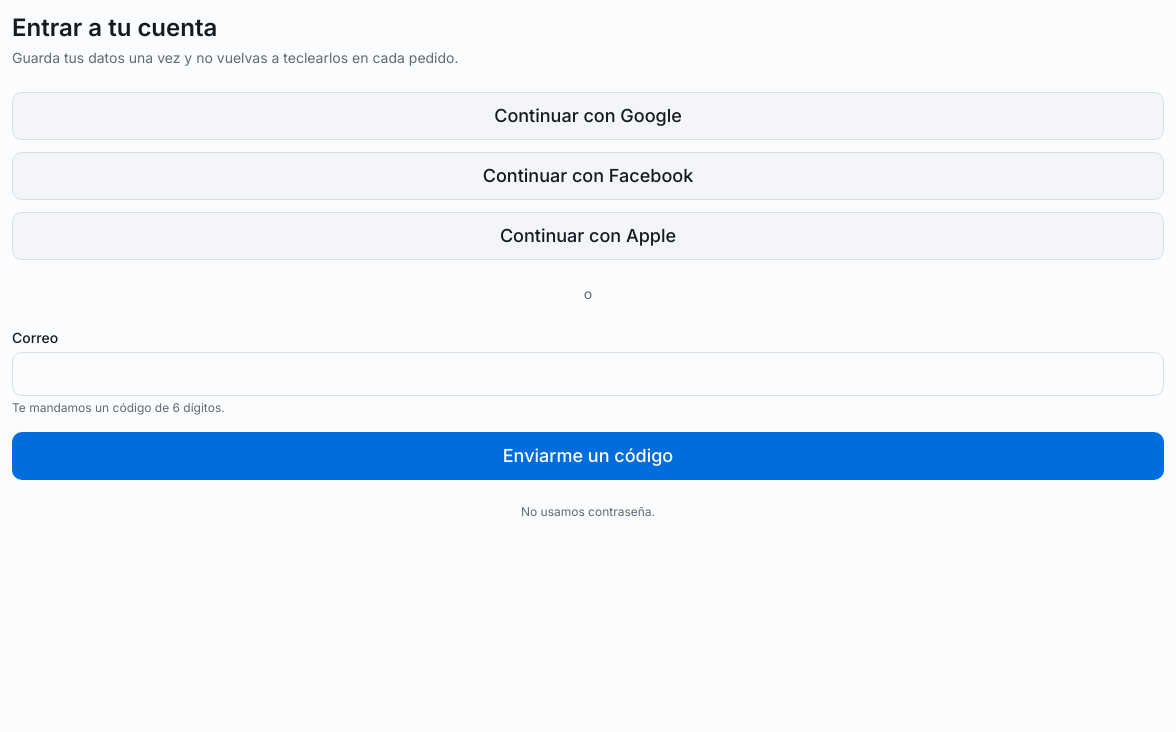
Test case: SignInCard — paso código (design.md § 2) › teclear uno a uno NO comprueba solo: solo habilita Entrar
Type "ana@x.cu" into the field labelled "Correo". click: (588, 374)
box: 12,352 -> 1164,396
Click the button "Enviarme un código". click: (588, 456)
box: 12,432 -> 1164,480
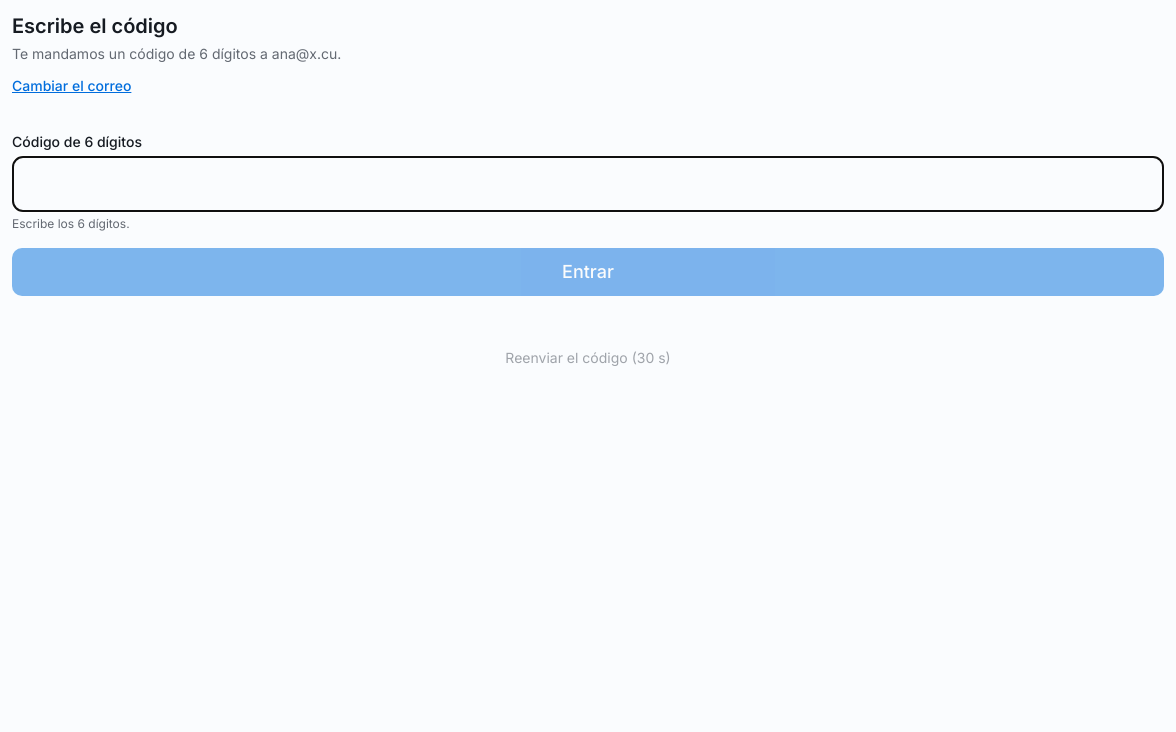
Expected: the heading "Escribe el código" is shown, 12,14 -> 178,38
Type "1" into the field labelled "Código de 6 dígitos". click: (588, 184)
box: 12,156 -> 1164,212
Replace the text in the field labelled "Código de 6 dígitos" with "12". click: (588, 184)
box: 12,156 -> 1164,212
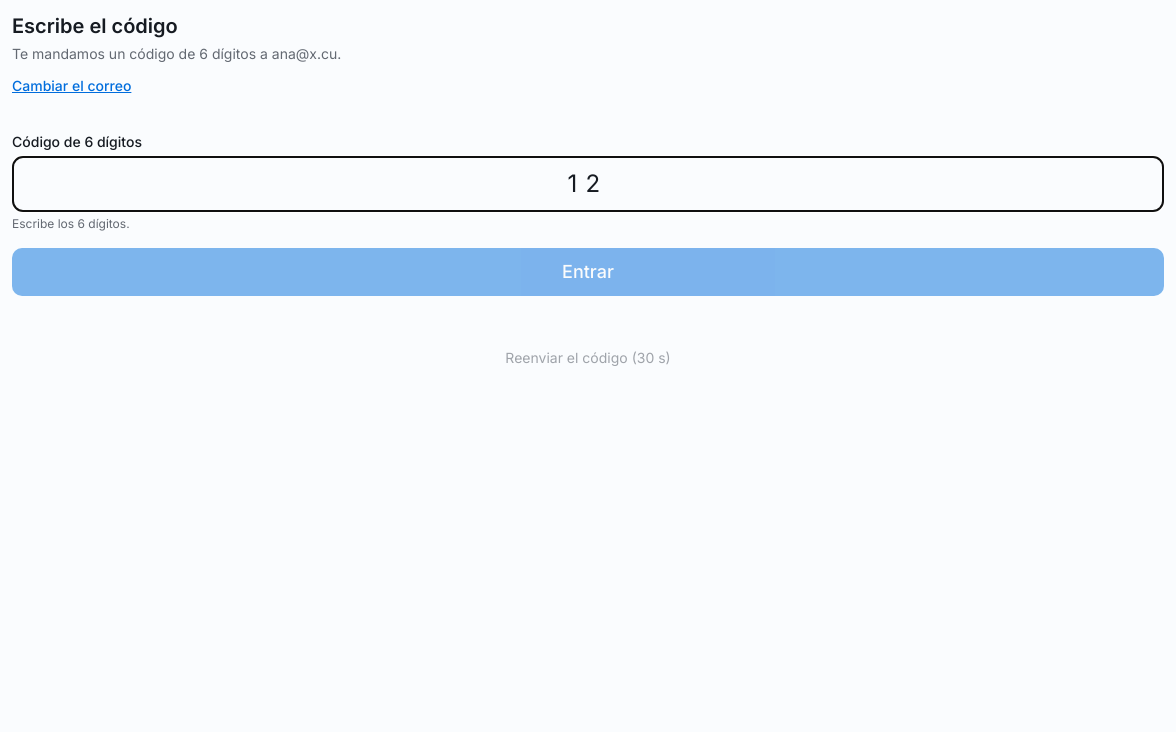
Replace the text in the field labelled "Código de 6 dígitos" with "123". click: (588, 184)
box: 12,156 -> 1164,212
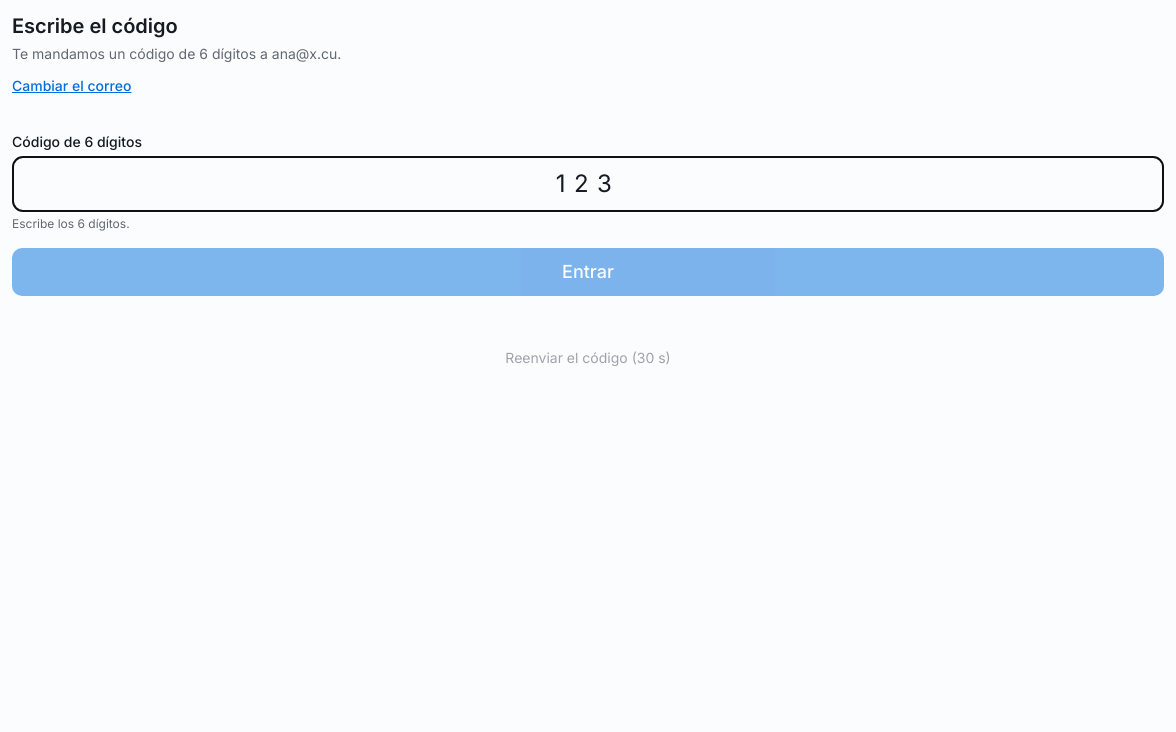
Replace the text in the field labelled "Código de 6 dígitos" with "1234". click: (588, 184)
box: 12,156 -> 1164,212
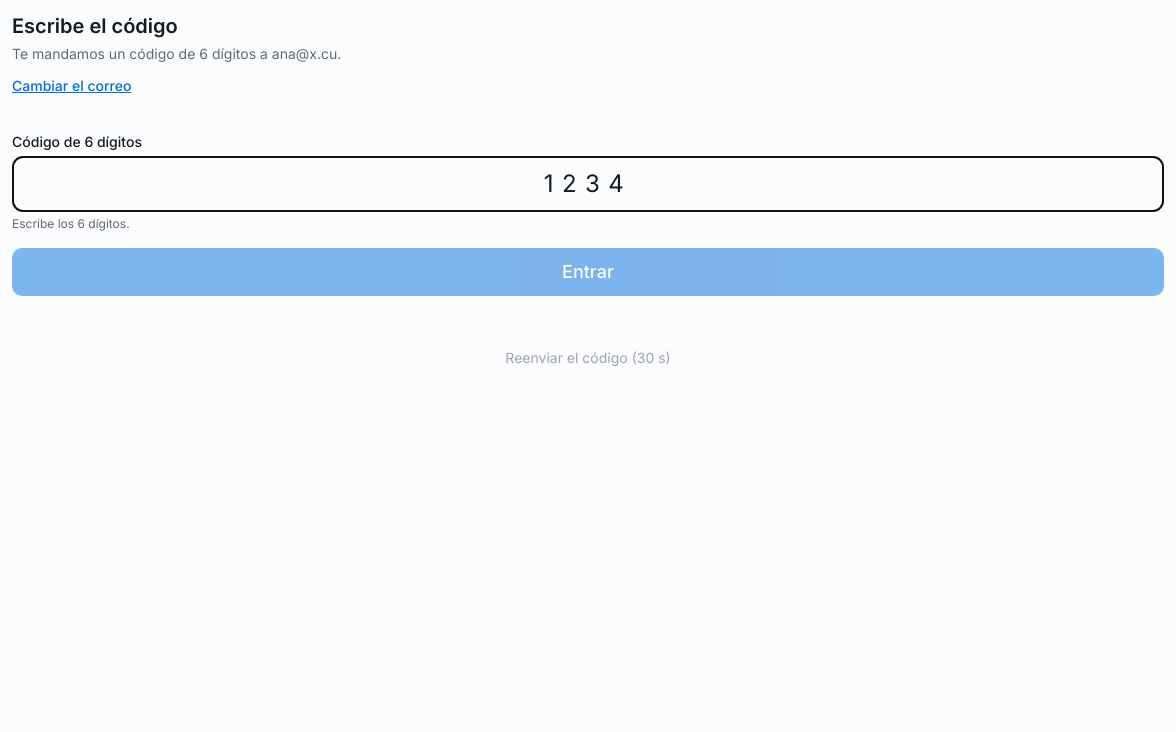
Replace the text in the field labelled "Código de 6 dígitos" with "12345". click: (588, 184)
box: 12,156 -> 1164,212
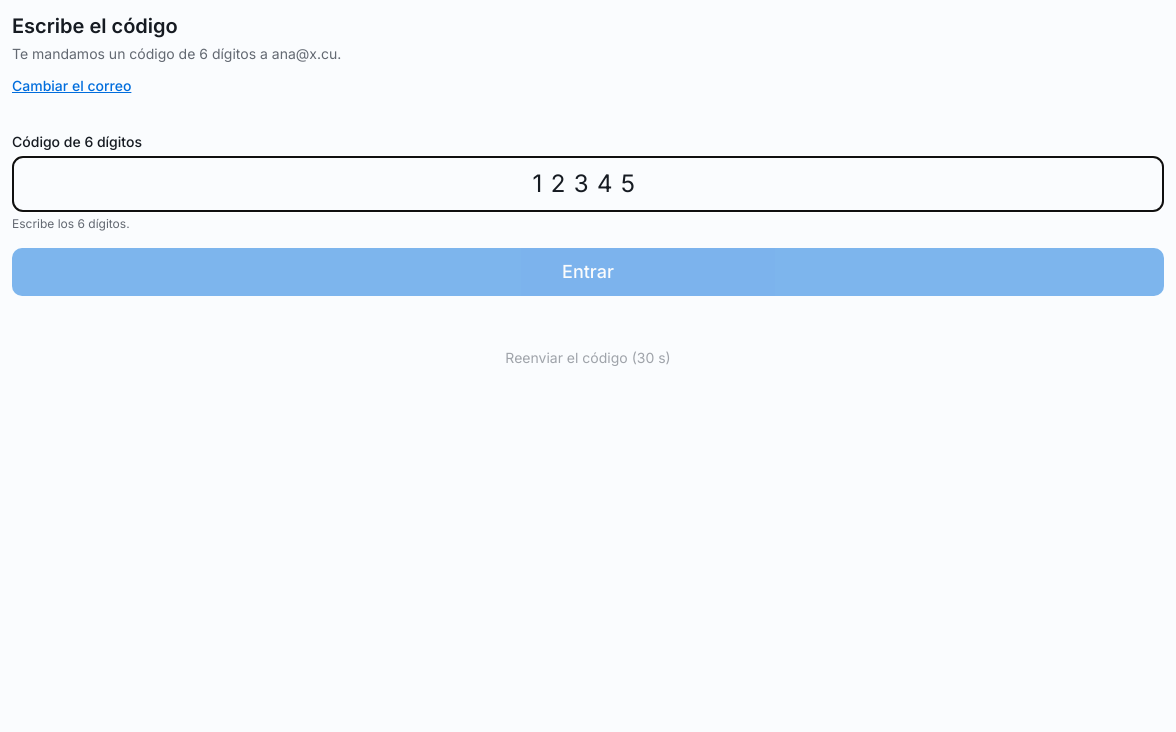
Replace the text in the field labelled "Código de 6 dígitos" with "123456". click: (588, 184)
box: 12,156 -> 1164,212
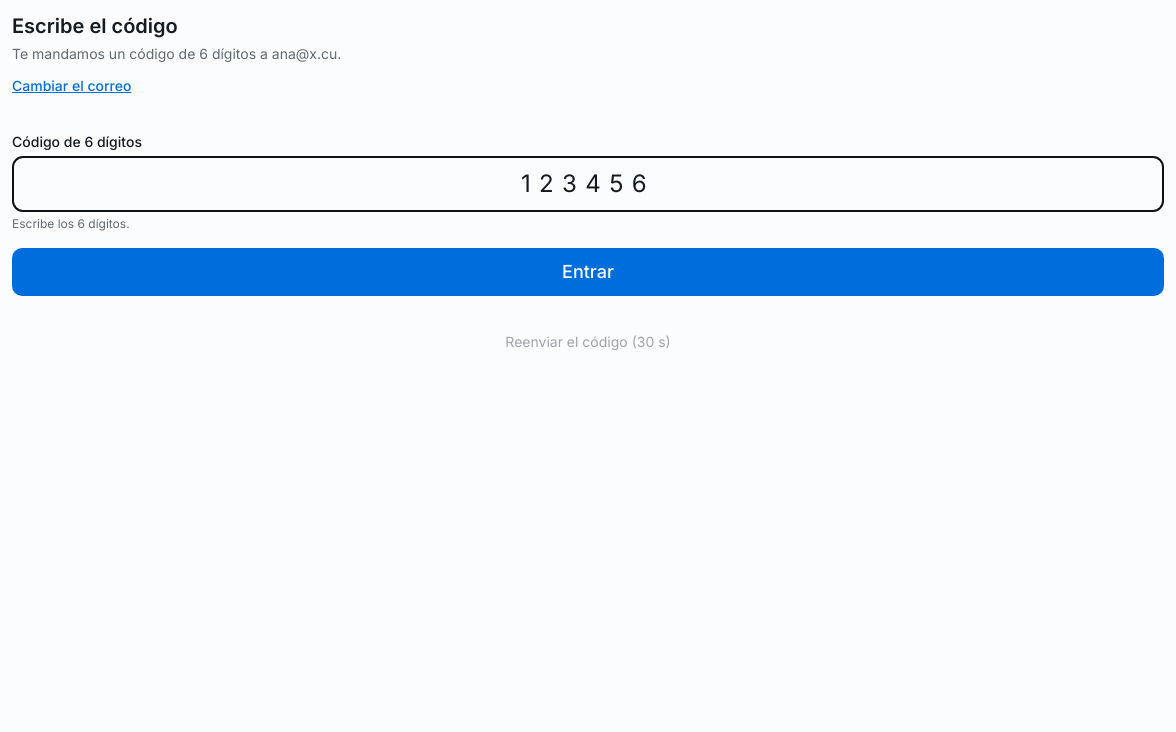
Expected: the button "Entrar" is enabled, 12,248 -> 1164,296
